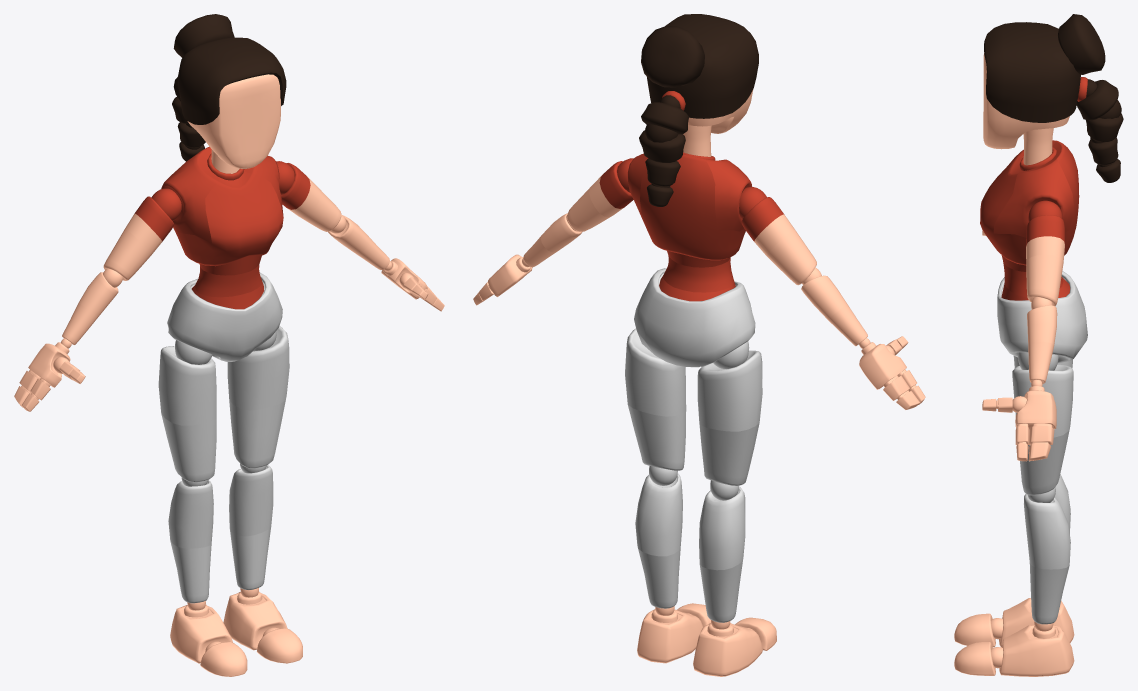
The model's file is Castellera.fbx.
3 views of the same model, side by side, from view 1: azimuth 30°, elevation 25°; view 2: azimuth 150°, elevation 25°; view 3: azimuth 270°, elevation 25° (orthographic). The views are drawn at different scales.
Parts seen in each view (by area): view 1: chest_PRX, hip_PRX, head_PRX, human_hairBase_PRX, rtLegUpr_1_PRX, lfLegUpr_1_PRX, lfLegLwr_1_PRX, rtLegLwr_1_PRX, lfLegUpr_2_PRX, rtClav_PRX, rtLegUpr_2_PRX, lfAnkle_PRX (+19 smaller); view 2: hip_PRX, human_hairBase_PRX, chest_PRX, rtLegUpr_1_PRX, lfLegUpr_1_PRX, lfLegLwr_1_PRX, rtLegLwr_1_PRX, human_hair2_PRX, rtAnkle_PRX, lfAnkle_PRX, rtLegUpr_2_PRX, lfLegUpr_2_PRX (+20 smaller); view 3: human_hairBase_PRX, chest_PRX, hip_PRX, lfClav_PRX, lfAnkle_PRX, lfLegLwr_1_PRX, lfLegUpr_1_PRX, human_hair2_PRX, lfArmUpr_1_PRX, head_PRX, lfLegLwr_2_PRX, lfLegUpr_2_PRX (+18 smaller).
Part boxes in pixels (x1,y1,x2,y2): chest_PRX: [173, 146, 283, 266]; hip_PRX: [167, 272, 282, 361]; head_PRX: [187, 74, 280, 168]; human_hairBase_PRX: [178, 37, 286, 124]; rtLegUpr_1_PRX: [158, 340, 216, 425]; lfLegUpr_1_PRX: [227, 326, 289, 410]; lfLegLwr_1_PRX: [229, 463, 273, 536]; rtLegLwr_1_PRX: [168, 477, 213, 548]; lfLegUpr_2_PRX: [229, 400, 285, 468]; rtClav_PRX: [161, 154, 219, 243]; rtLegUpr_2_PRX: [161, 414, 216, 482]; lfAnkle_PRX: [223, 588, 287, 650]; hip_PRX: [634, 268, 755, 367]; human_hairBase_PRX: [646, 14, 758, 118]; chest_PRX: [637, 152, 745, 260]; rtLegUpr_1_PRX: [697, 341, 762, 431]; lfLegUpr_1_PRX: [625, 328, 686, 416]; lfLegLwr_1_PRX: [635, 466, 682, 556]; rtLegLwr_1_PRX: [699, 480, 745, 570]; human_hair2_PRX: [641, 26, 704, 87]; rtAnkle_PRX: [693, 620, 762, 676]; lfAnkle_PRX: [637, 606, 703, 663]; rtLegUpr_2_PRX: [699, 423, 759, 485]; lfLegUpr_2_PRX: [628, 405, 686, 470]; human_hairBase_PRX: [984, 22, 1080, 122]; chest_PRX: [980, 141, 1079, 265]; hip_PRX: [997, 271, 1087, 363]; lfClav_PRX: [993, 159, 1073, 237]; lfAnkle_PRX: [999, 621, 1074, 676]; lfLegLwr_1_PRX: [1024, 487, 1070, 569]; lfLegUpr_1_PRX: [1012, 352, 1073, 437]; human_hair2_PRX: [1058, 14, 1105, 74]; lfArmUpr_1_PRX: [1026, 200, 1064, 262]; head_PRX: [983, 53, 1069, 149]; lfLegLwr_2_PRX: [1029, 563, 1069, 624]; lfLegUpr_2_PRX: [1020, 428, 1069, 495].
Bounding box in the file's own units: 132 × 185 × 44.43.
